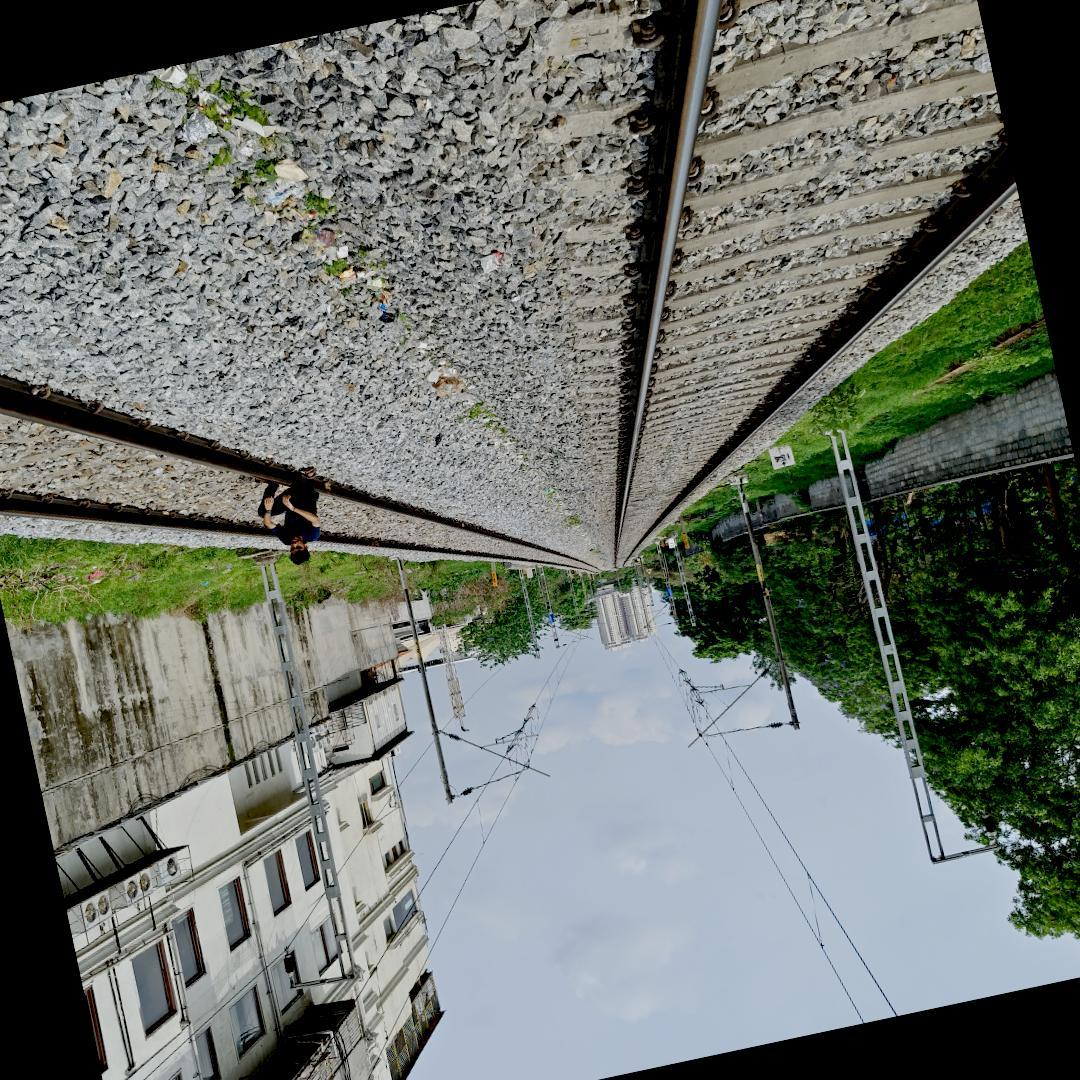sitting: (235, 443, 348, 590)
track: (588, 0, 1027, 571), (0, 301, 583, 569)
